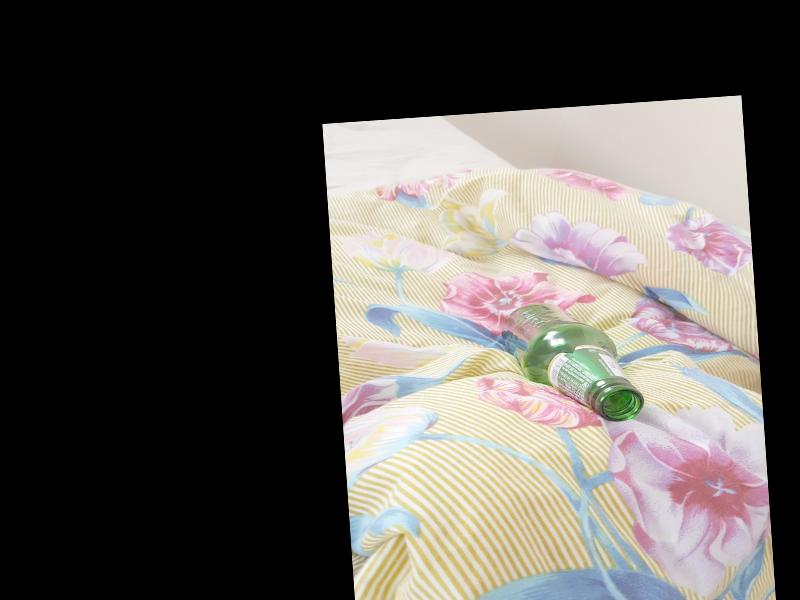Beer: (500, 296, 646, 430)
